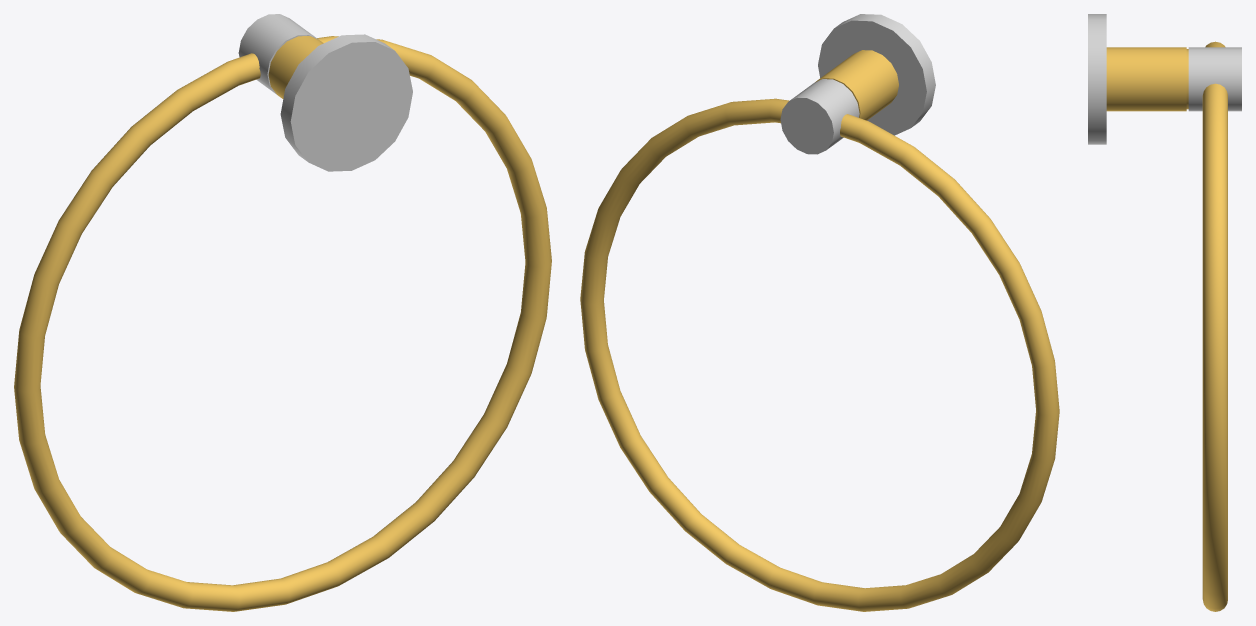
The model's file is TowelHanger06.fbx.
The picture shows the model from 3 angles, left to right: view 1: azimuth 30°, elevation 25°; view 2: azimuth 150°, elevation 25°; view 3: azimuth 270°, elevation 25°; orthographic projection. The views are drawn at different scales.
Visible parts, largest first — view 1: TowelHanger06; view 2: TowelHanger06; view 3: TowelHanger06.
Part boxes in pixels (x1,y1,x2,y2): TowelHanger06: (14, 14, 551, 611); TowelHanger06: (580, 14, 1059, 611); TowelHanger06: (1088, 14, 1241, 611).
Size of the model in its own units: 27.5 by 30.06 by 7.42.
